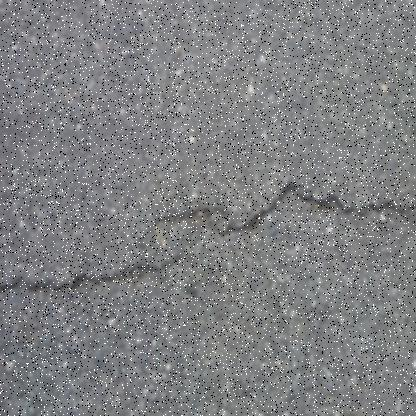Cracks: (148, 171, 415, 243), (0, 243, 190, 302)
